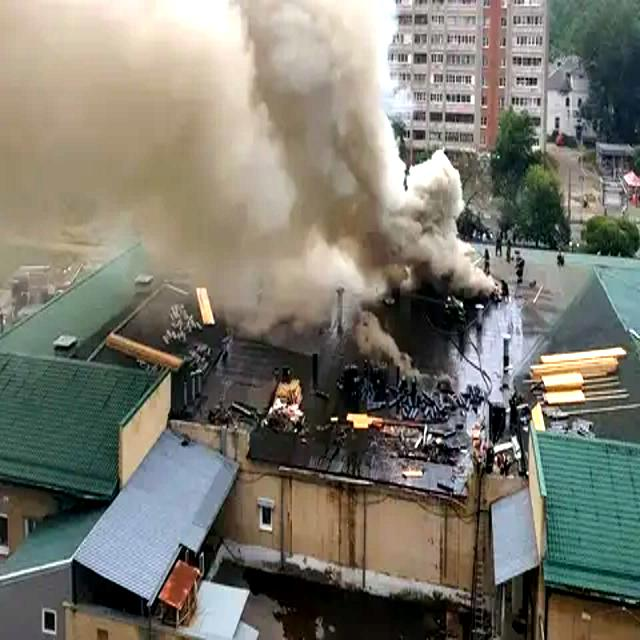no_helmet: (0, 0, 498, 325)
